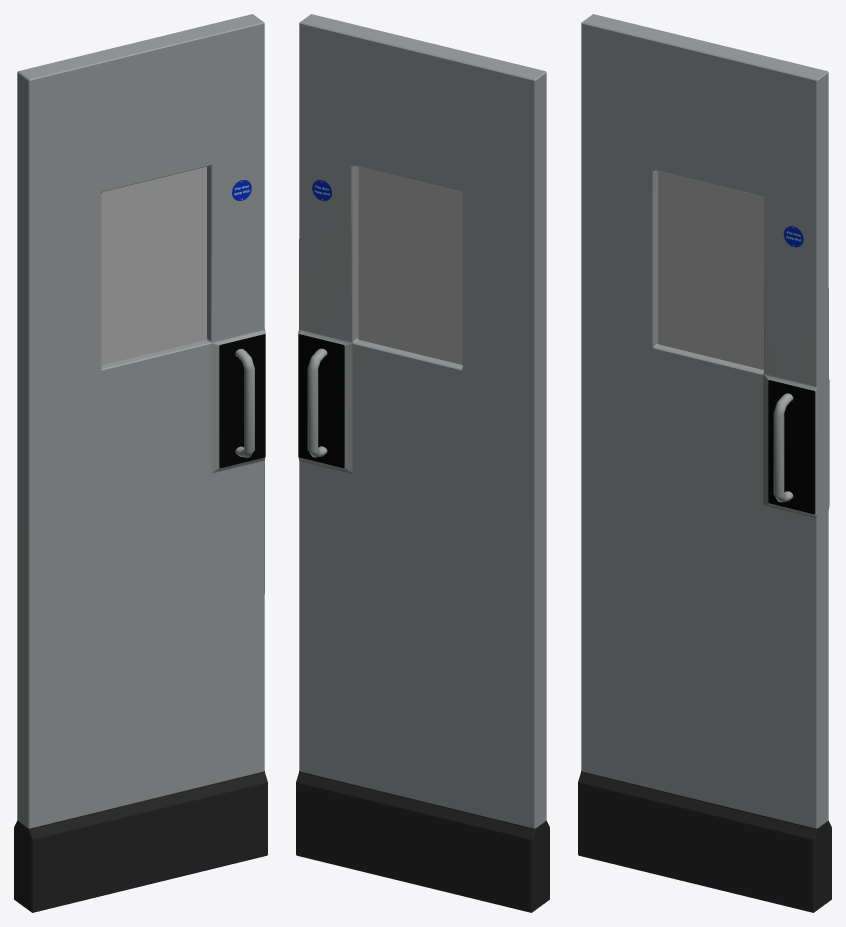
File: Door_Model.fbx
3 views of the same model, side by side, from view 1: azimuth 30°, elevation 25°; view 2: azimuth 150°, elevation 25°; view 3: azimuth 330°, elevation 25° (orthographic).
Visible parts, largest first — view 1: Door; view 2: Door; view 3: Door.
Part boxes in pixels (x1,y1,x2,y2): Door: (14,14,267,912); Door: (296,14,549,912); Door: (578,14,831,912).
Bounding box in the file's own units: 2.85 × 9.57 × 0.834.
